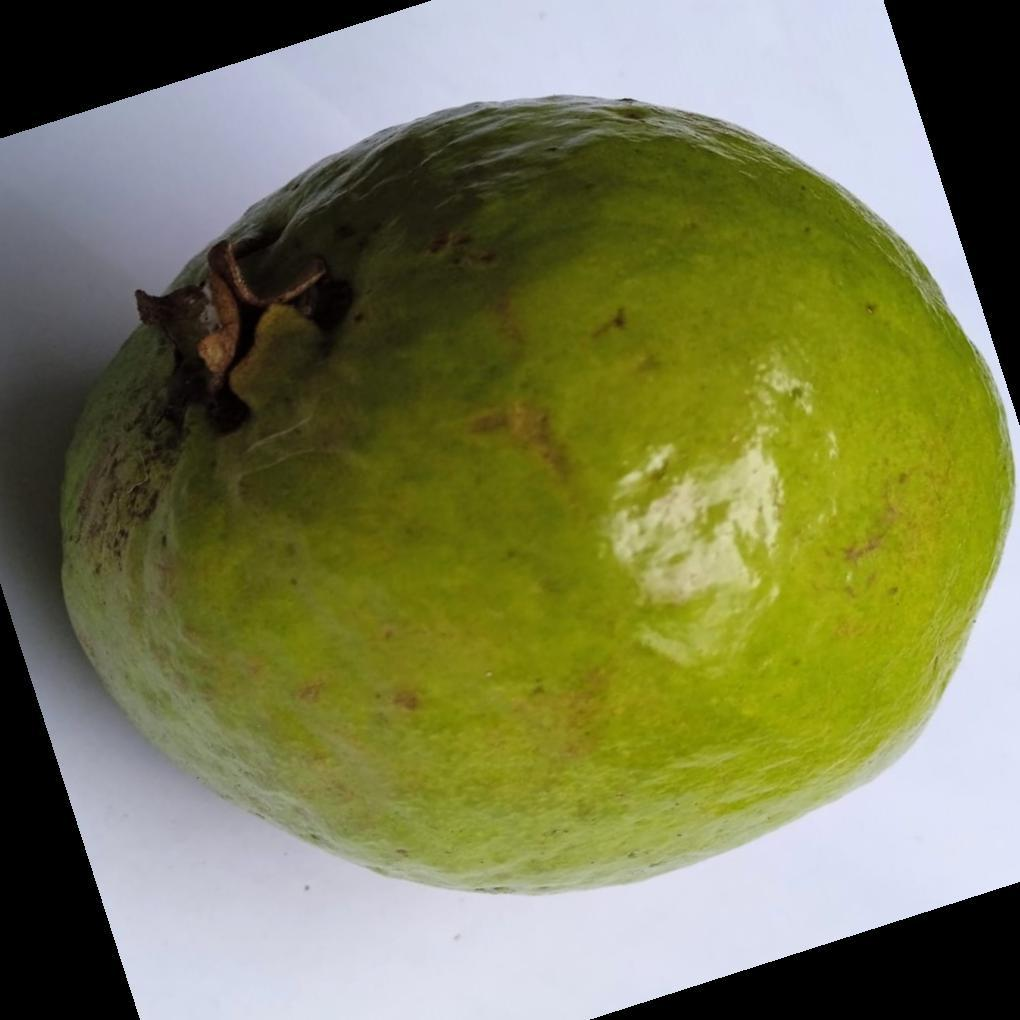FreshGuava: (56, 96, 1020, 900)
